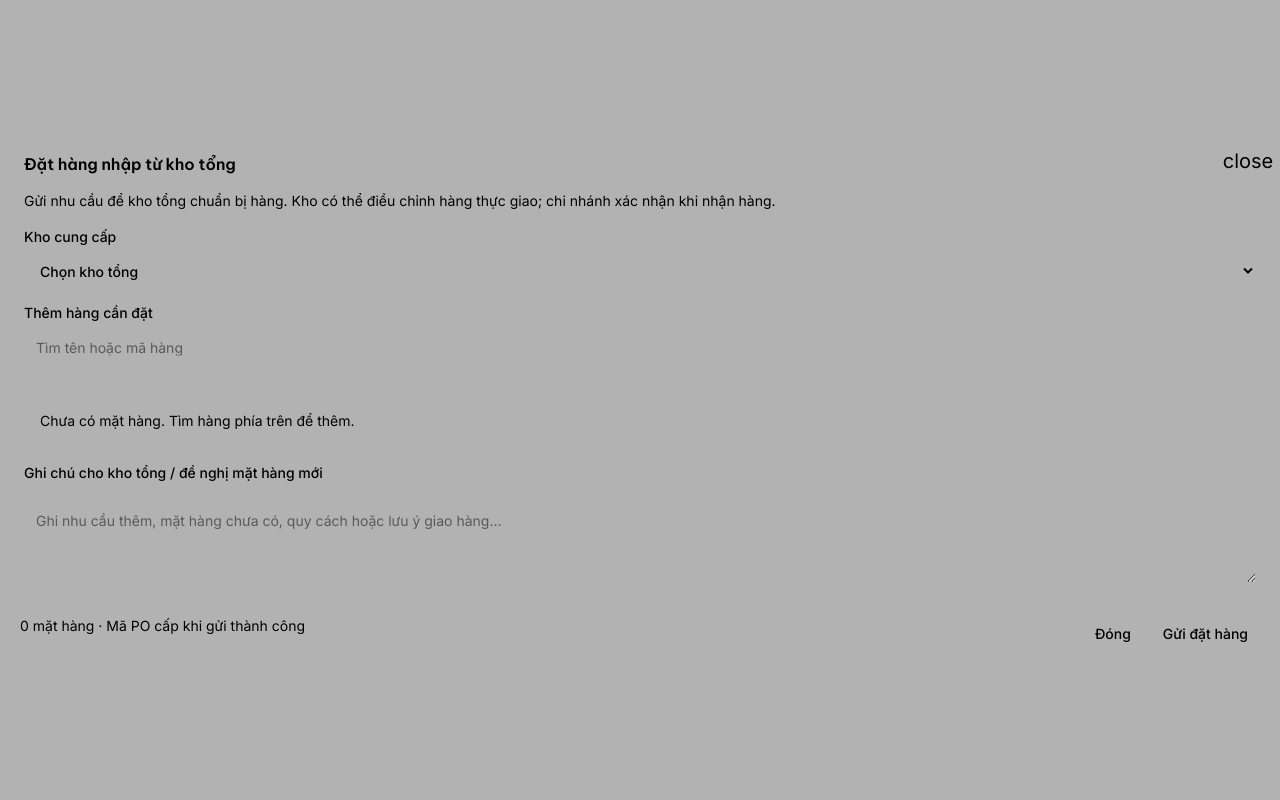
Test: F&B warehouse order form › discards a delayed response after a newer query has completed
In the field labelled "Thêm hàng cần đặt": [640, 346] box left=24, top=326, right=1256, bottom=366, type "old"
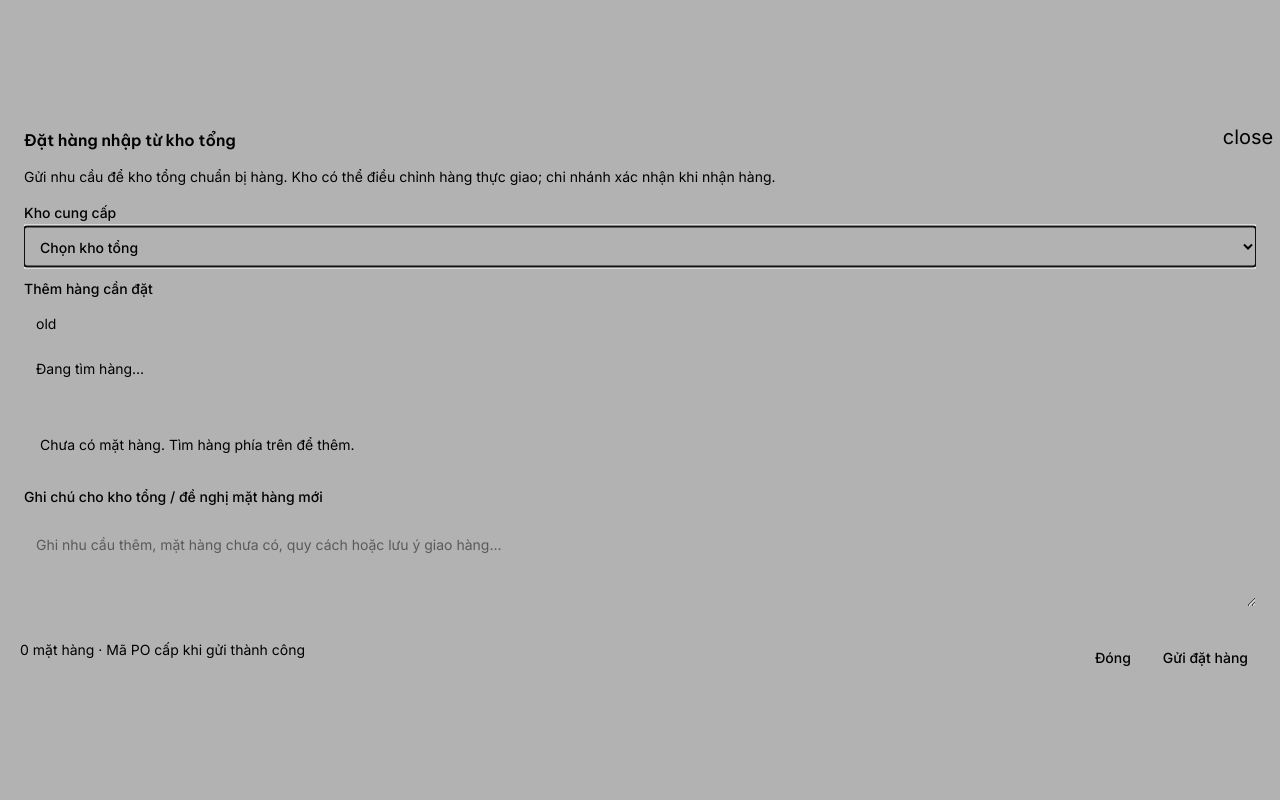
Replace the text in the field labelled "Thêm hàng cần đặt" with "new": [640, 322] box left=24, top=302, right=1256, bottom=342
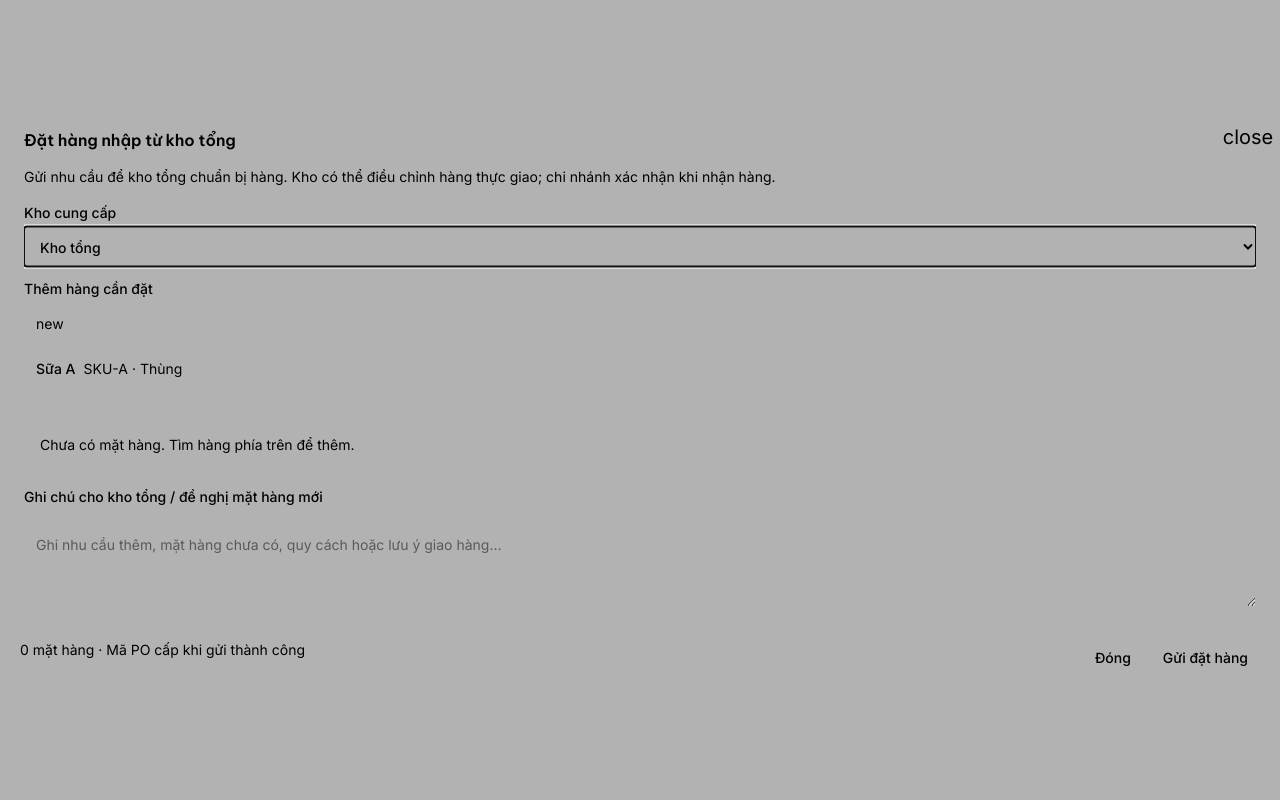
Expected: the button "Sữa ASKU-A · Thùng" is shown, left=24, top=346, right=1256, bottom=390
